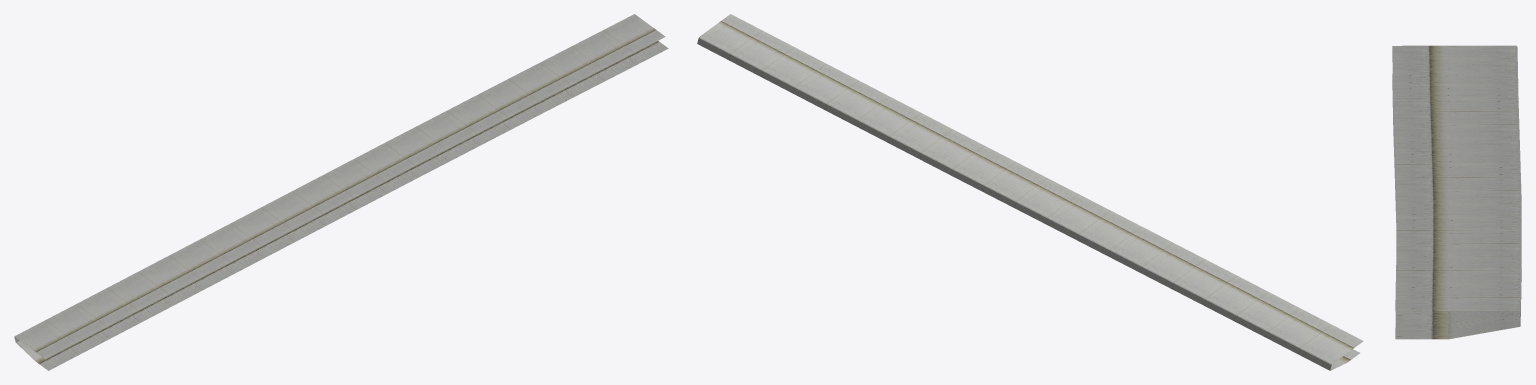
Rendered from _1WALL_11_SUB0_Scene.278.obj.
3 renders of one model, left to right at view 1: azimuth 30°, elevation 25°; view 2: azimuth 150°, elevation 25°; view 3: azimuth 270°, elevation 25°, orthographic. The views are drawn at different scales.
Visible parts, largest first — view 1: _1WALL_11_SUB0_Scene.278; view 2: _1WALL_11_SUB0_Scene.278; view 3: _1WALL_11_SUB0_Scene.278.
Part boxes in pixels (<box>): _1WALL_11_SUB0_Scene.278: <box>14,14,668,370</box>; _1WALL_11_SUB0_Scene.278: <box>697,14,1363,370</box>; _1WALL_11_SUB0_Scene.278: <box>1392,45,1521,339</box>.
Bounding box in the file's own units: 19.55 × 5.47 × 1.76.
